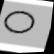no answer: (0, 5, 42, 38)
